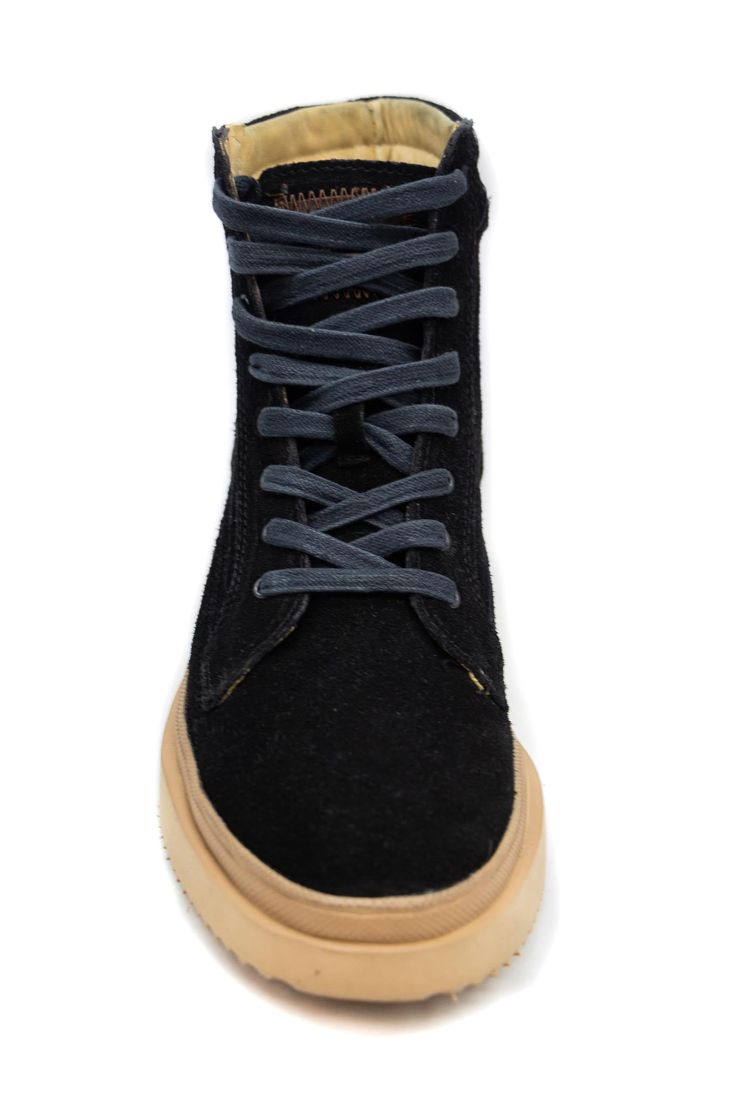gamuza: (188, 117, 516, 900)
